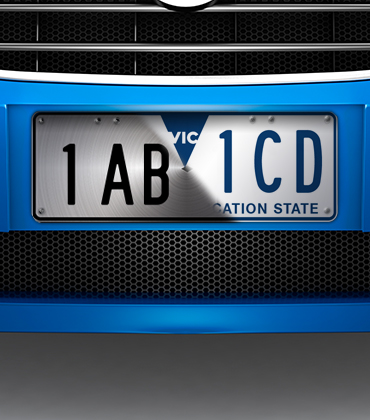license plate: (31, 108, 338, 225)
